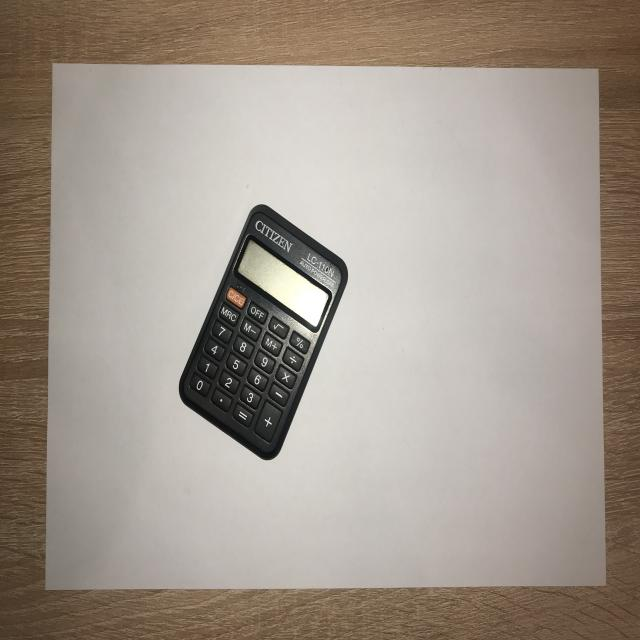calculator: (176, 192, 352, 466)
